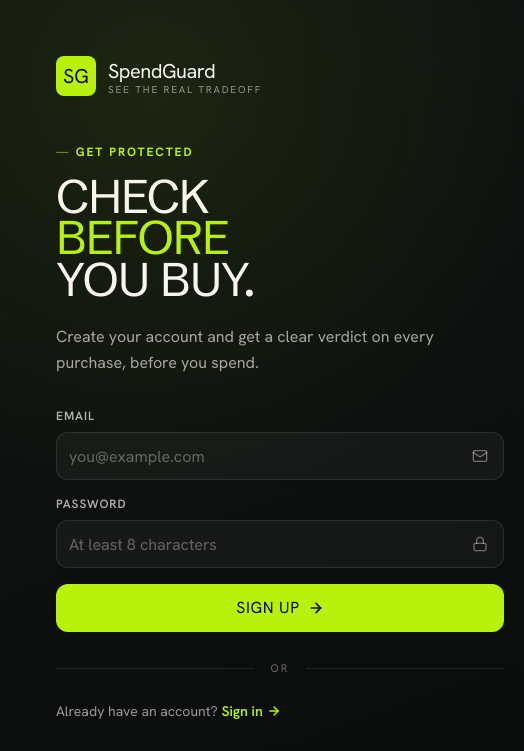
Test case: AuthForm › shows a signup error returned by the server action
The image size is (524, 751).
Step 1. Type "invalid@example.com" into the field labelled "Email" → (280,456), box x1=56 y1=432 x2=504 y2=480
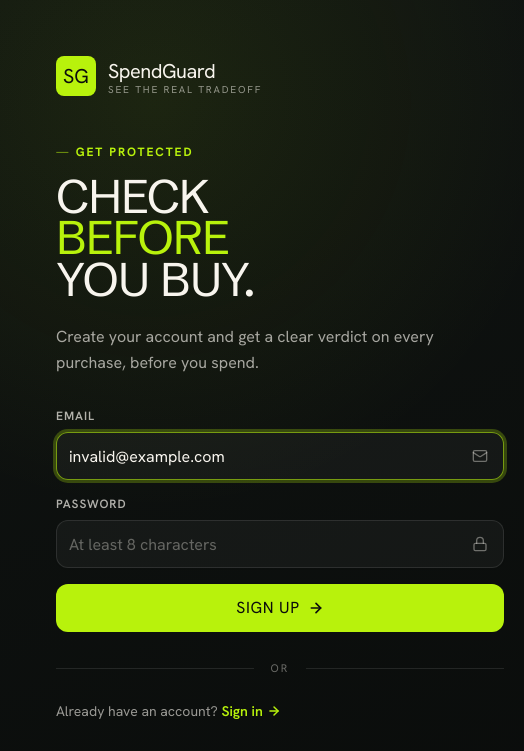
Step 2. Type "password123" into the password field labelled "Password" → (280,544), box x1=56 y1=520 x2=504 y2=568
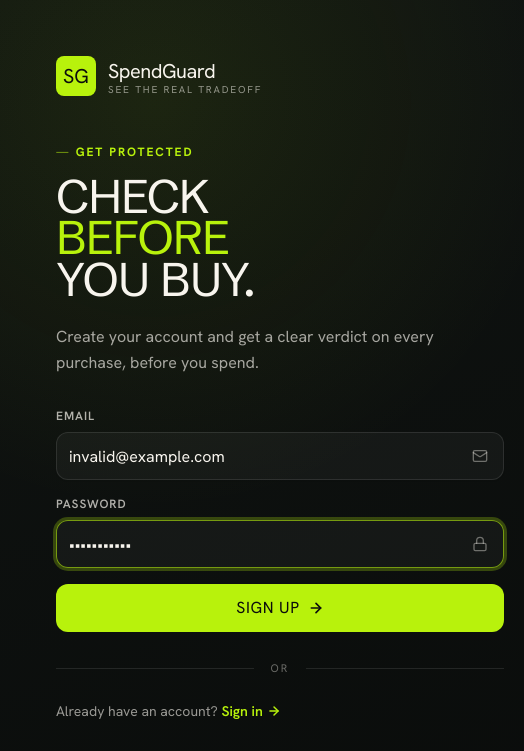
Step 3. Click the button "Sign up" → (280,608), box x1=56 y1=584 x2=504 y2=632
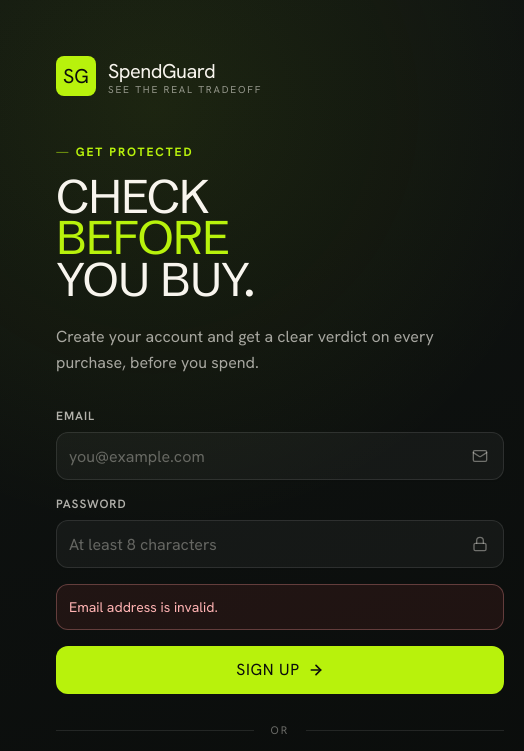
Check: the message reads "Email address is invalid.", box x1=69 y1=598 x2=218 y2=616
